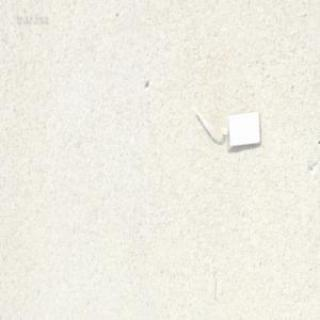LuggageTagtrack_idkeyframe: (187, 104, 261, 150)
